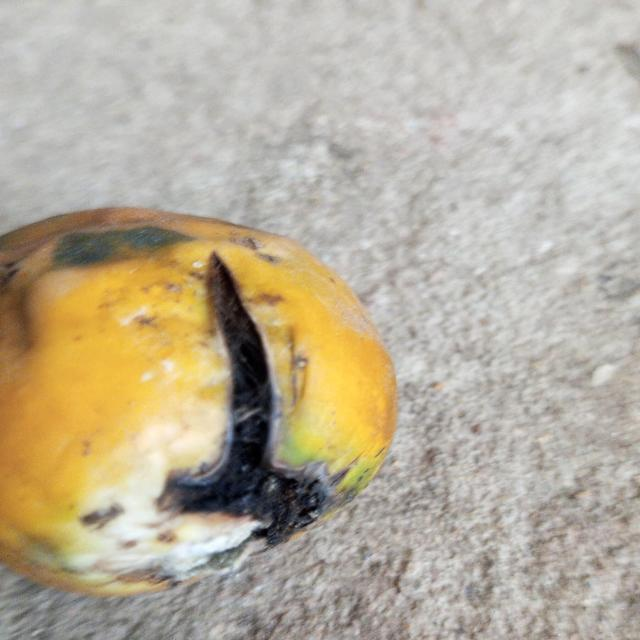damaged: (0, 208, 397, 596)
